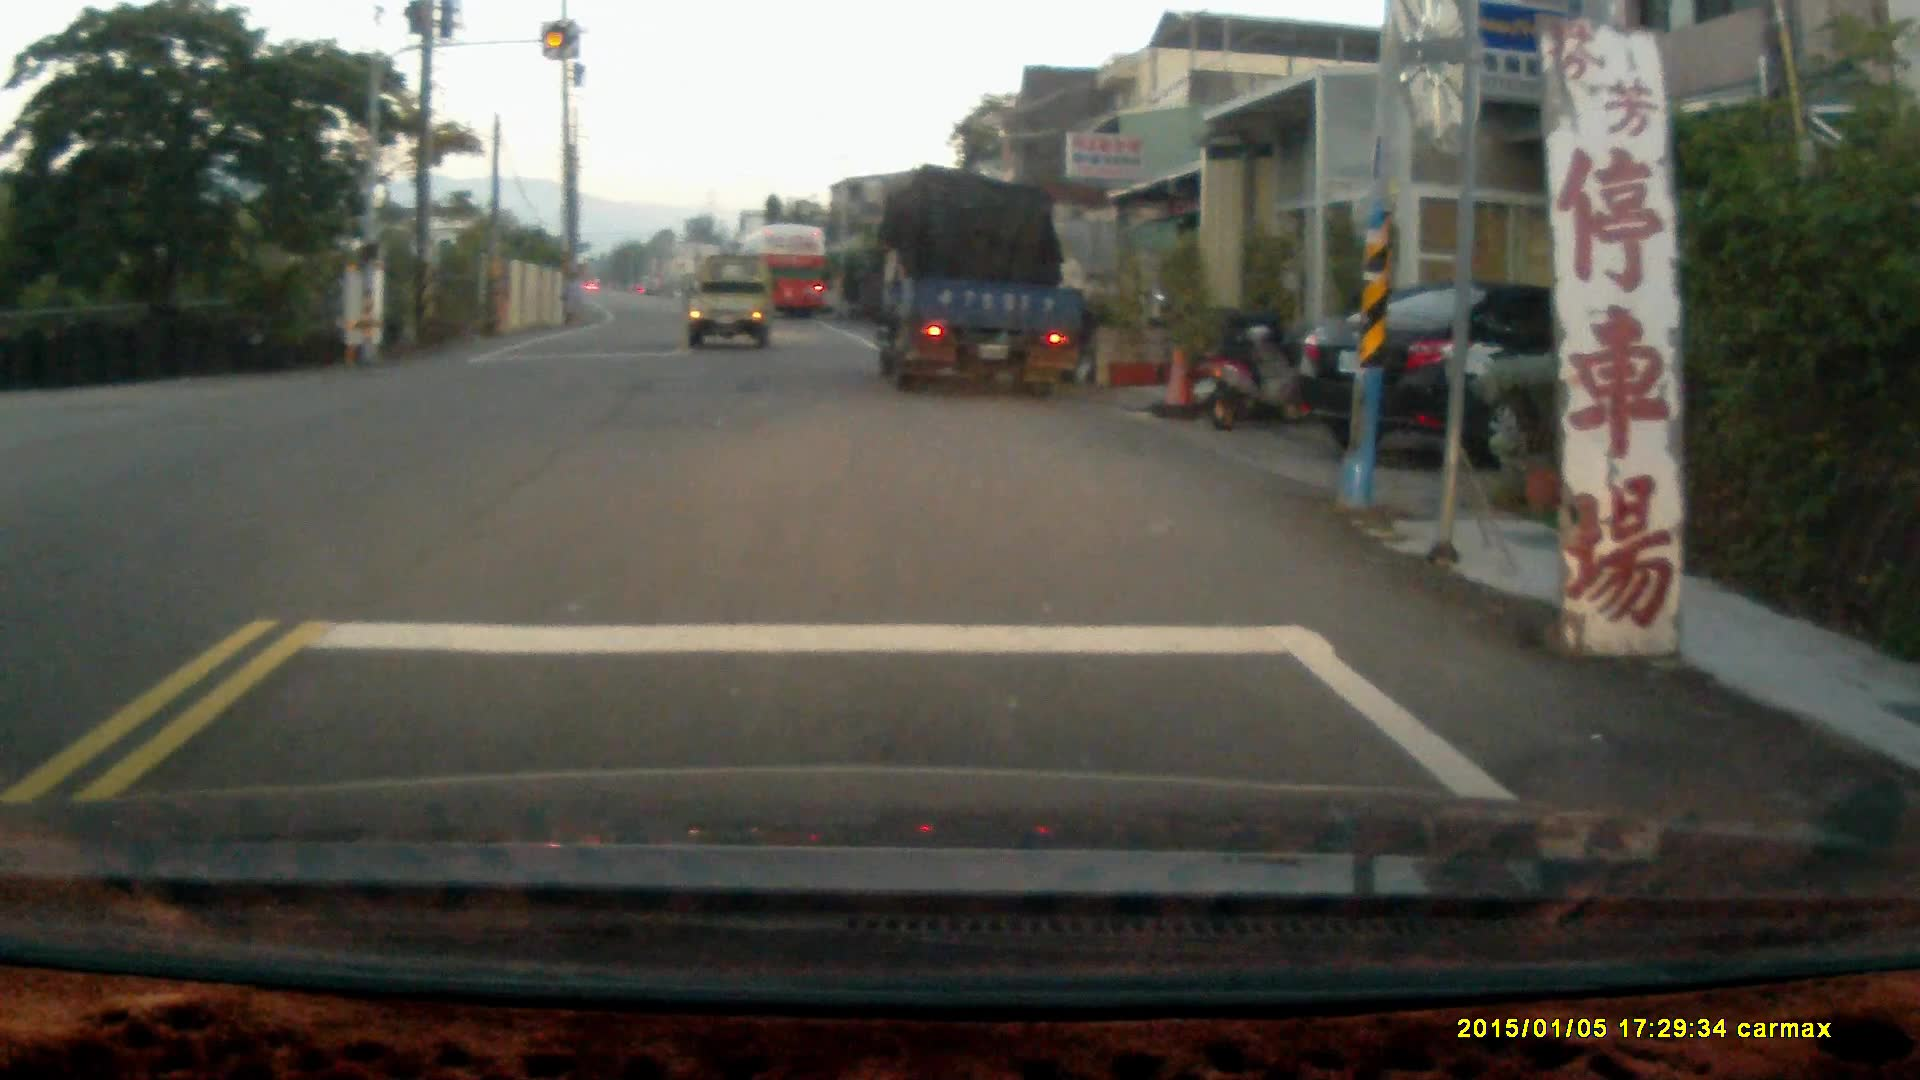vehicle: (1291, 284, 1714, 473), (881, 175, 1095, 392), (738, 228, 833, 330), (688, 257, 779, 348)
